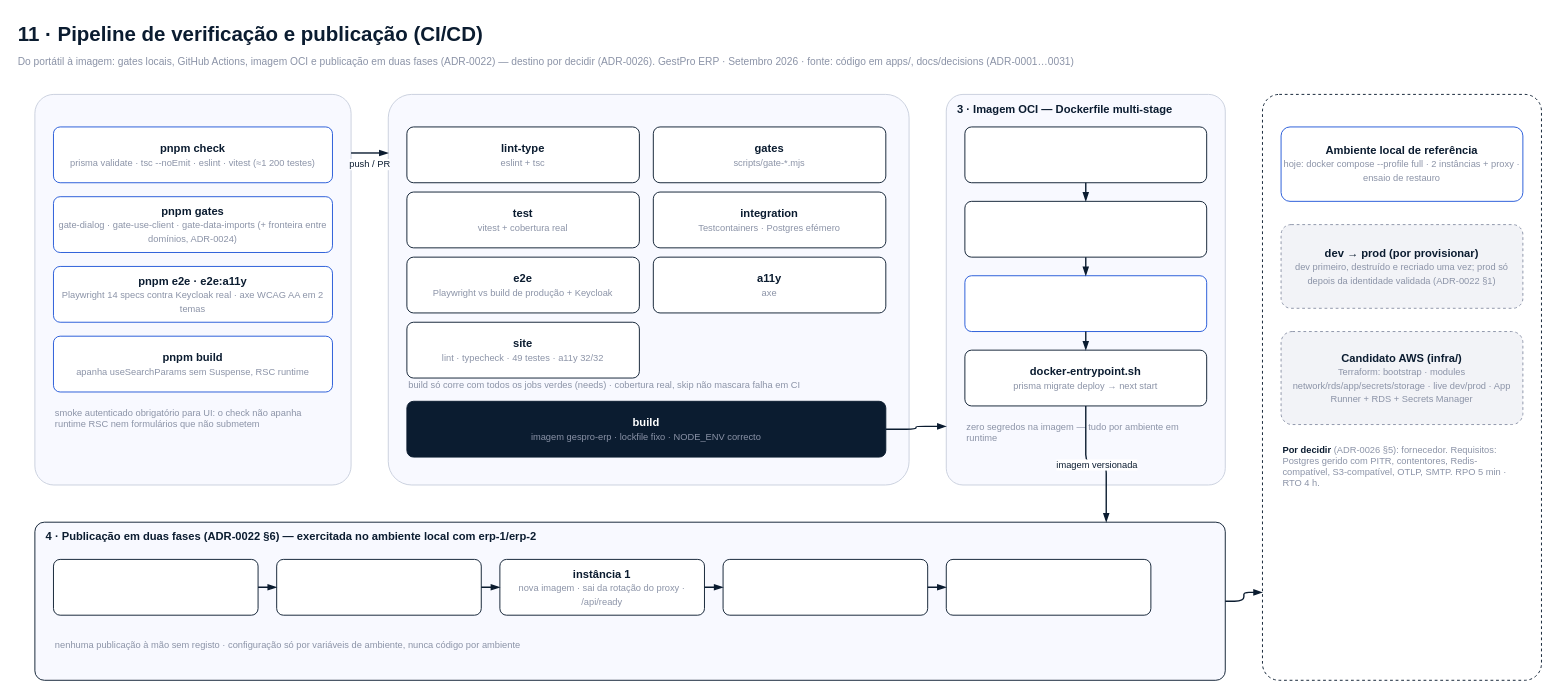
Image size: 1558x697. Some labels were removed from this diagram. The shapes that lost their labels are listed below. From the top down, each one's box as (x1, y1, x2, y2) in pixels, then its label:
(964, 126, 1207, 183): deps node:alpine · pnpm install --frozen-lockfile
(964, 200, 1207, 257): build prisma generate · next build (output: standalone)
(34, 93, 351, 485): 1 · Local — antes de entregar
(387, 93, 909, 485): 2 · GitHub Actions — .github/workflows/ci.yml (push · pull_request)
(964, 275, 1207, 332): runner não-root (nextjs) · EXPOSE 3000 · HEALTHCHECK /api/health · wget
(1262, 93, 1541, 680): 5 · Destino
(53, 558, 258, 615): instantâneo da BD antes de qualquer migração (ADR-0020)
(276, 558, 481, 615): migração compatível expand: nunca renomear/apagar na mesma versão
(722, 558, 928, 615): smoke autenticado login · POS · factura · exports
(945, 558, 1151, 615): instância 2 contract: limpeza só na versão seguinte
